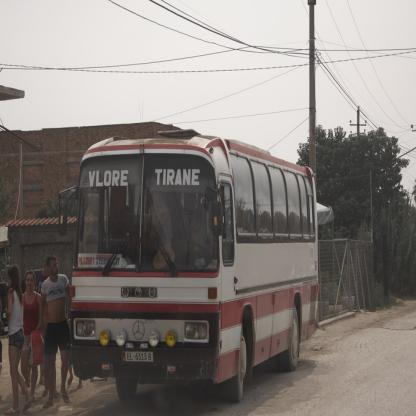Bus: (57, 127, 320, 409)
